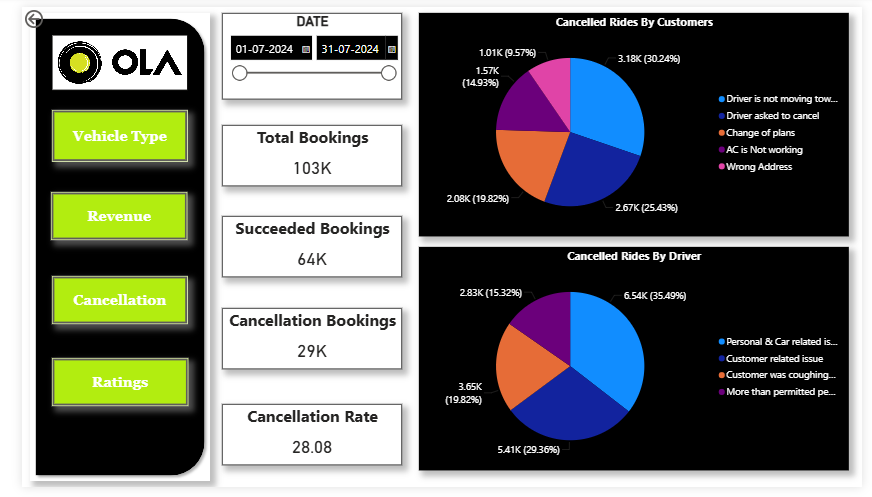

This screenshot's page, from the dashboard's own definition file:
{"tool":"powerbi","page":{"name":"Cancellation","canvas":[1280,720],"ordinal":4},"visuals":[{"type":"pieChart","title":"Cancel Booking by Customer","fields":{"Y":["Sum(Bengaluru_Ola_Booking_Data.Cancelled Rides by Customer)"],"Category":["Bengaluru_Ola_Booking_Data.Reason for Cancelling by Customer"]},"box":[610.6,11.5,659.5,335.5],"z":0},{"type":"pieChart","title":"Cancel Booking by Driver","fields":{"Category":["Bengaluru_Ola_Booking_Data.Reason for Cancelling by Driver"],"Y":["Sum(Bengaluru_Ola_Booking_Data.Cancelled Rides by Driver)"]},"box":[610.6,360,659.5,338.4],"z":1000},{"type":"slicer","title":"Date","fields":{"Values":["Bengaluru_Ola_Booking_Data.Date"]},"box":[332.6,11.8,268.8,196.5],"z":2000},{"type":"card","title":"Total Booking","fields":{"Values":["Count(Bengaluru_Ola_Booking_Data.Booking ID)"]},"box":[332.6,221.7,268.8,92.4],"z":3000},{"type":"card","title":"Total Success Booking","fields":{"Values":["Count(Bengaluru_Ola_Booking_Data.Booking ID)"]},"box":[332.6,349.4,268.8,92.4],"z":4000},{"type":"card","title":"Total Cancelled Booking","fields":{"Values":["Count(Bengaluru_Ola_Booking_Data.Booking ID)"]},"box":[332.6,477.1,268.8,92.4],"z":5000},{"type":"card","title":"Total Incomplete Ride","fields":{"Values":["Count(Bengaluru_Ola_Booking_Data.Booking ID)"]},"box":[331.2,604.8,269.3,90.7],"z":6000}]}

Visuals, with their boxes in screenshot pixels (x1, y1, x2, y2), scaled from the page's 1280x720 canvas onto the 872x497 screenshot:
"Cancel Booking by Customer" pieChart: <bbox>416, 8, 865, 240</bbox>
"Cancel Booking by Driver" pieChart: <bbox>416, 248, 865, 482</bbox>
"Date" slicer: <bbox>227, 8, 410, 144</bbox>
"Total Booking" card: <bbox>227, 153, 410, 217</bbox>
"Total Success Booking" card: <bbox>227, 241, 410, 305</bbox>
"Total Cancelled Booking" card: <bbox>227, 329, 410, 393</bbox>
"Total Incomplete Ride" card: <bbox>226, 417, 409, 480</bbox>
